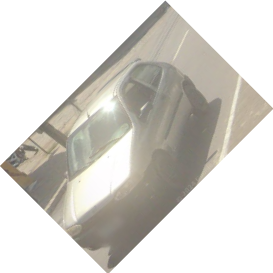car: (63, 59, 209, 249)
